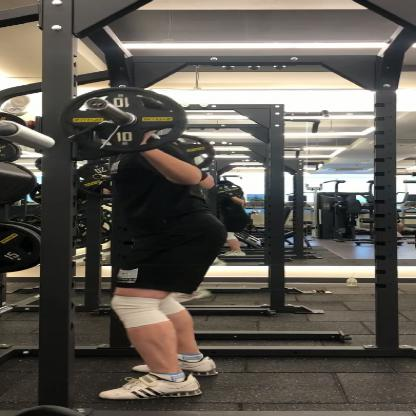Barbell: (44, 81, 200, 158)
